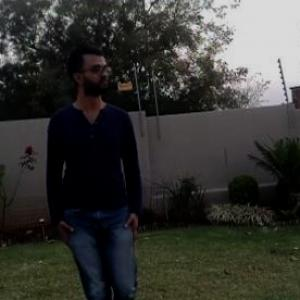follow: (42, 36, 146, 299)
